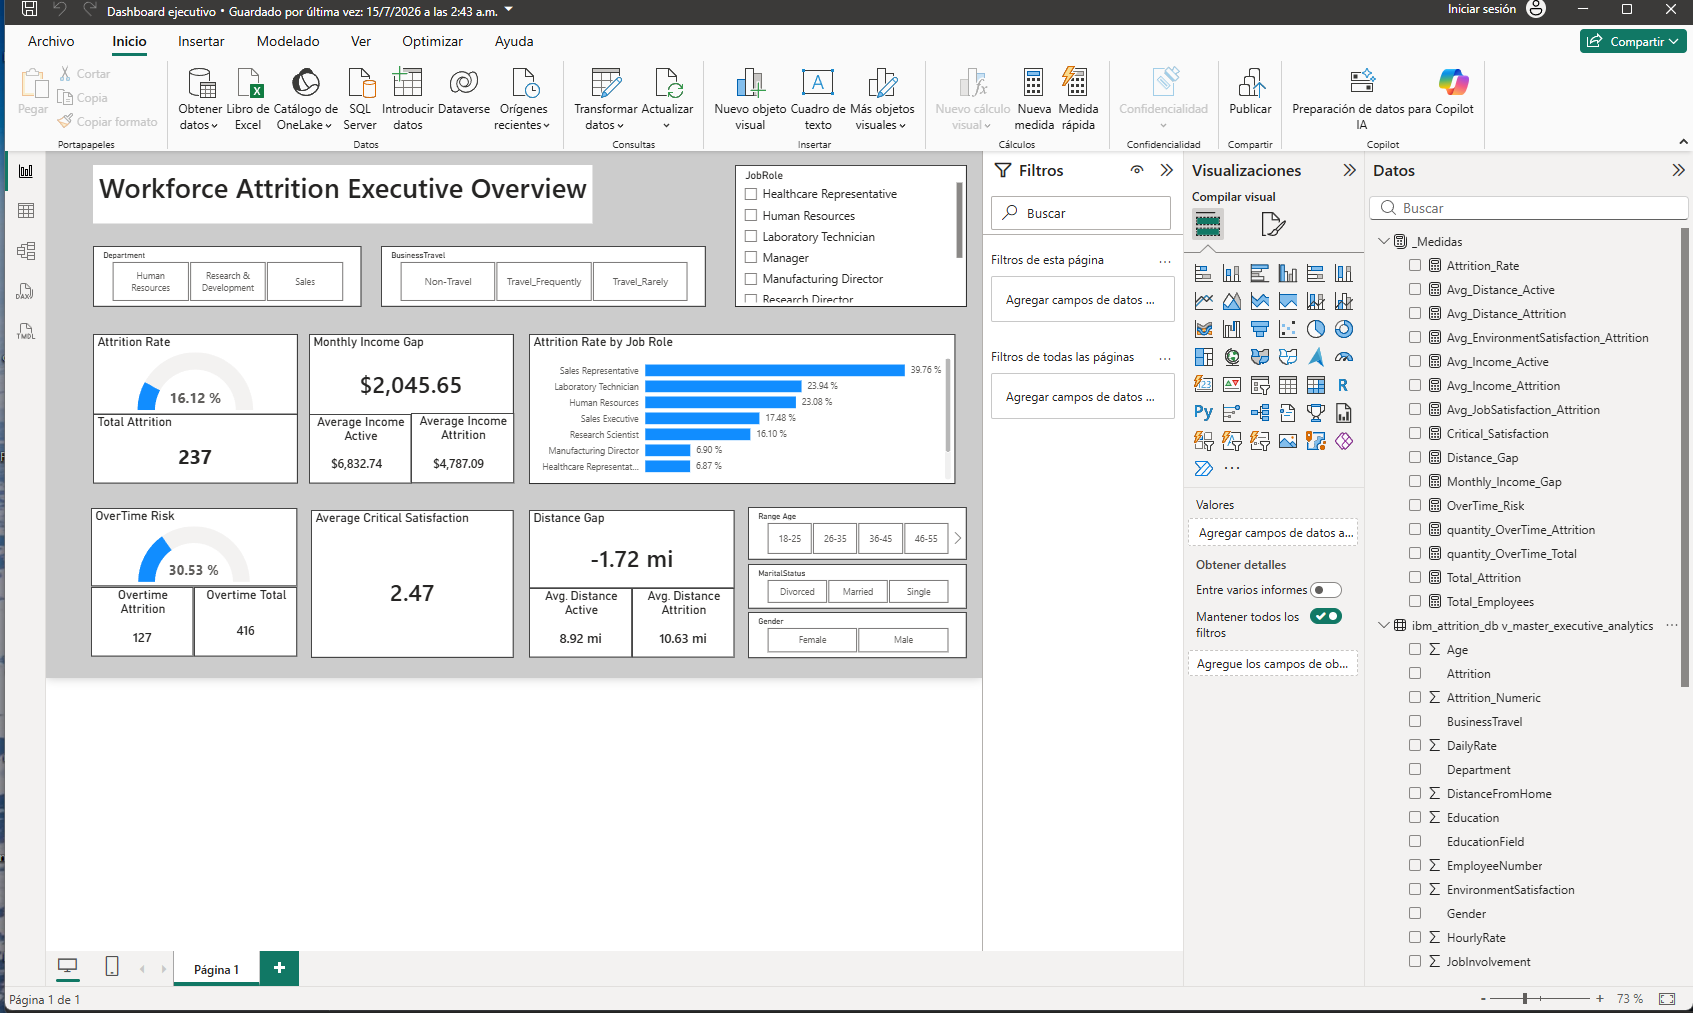

The dashboard page shown, as its layout file describes it:
{"tool":"powerbi","page":{"name":"Página 1","canvas":[1280,720],"ordinal":0},"visuals":[{"type":"gauge","title":"Attrition Rate","fields":{"Y":["_Medidas.Attrition_Rate"]},"box":[63.9,250,279.9,110.1],"z":0},{"type":"cardVisual","title":"Total Attrition","fields":{"Data":["_Medidas.Total_Attrition"]},"box":[63.9,360.1,279.9,95.1],"z":1000},{"type":"cardVisual","title":"Monthly Income Gap","fields":{"Data":["_Medidas.Monthly_Income_Gap"]},"box":[360.1,250,279.9,111.4],"z":2000},{"type":"cardVisual","title":"Average Income Active","fields":{"Data":["_Medidas.Avg_Income_Active"]},"box":[360.1,360.1,140,95.1],"z":3000},{"type":"cardVisual","title":"Average Income Attrition","fields":{"Data":["_Medidas.Avg_Income_Attrition"]},"box":[498.7,358.7,141.3,96.5],"z":4000},{"type":"gauge","title":"OverTime Risk","fields":{"Y":["_Medidas.OverTime_Risk"]},"box":[61,488.8,281.6,107.3],"z":5000},{"type":"cardVisual","title":"Overtime Attrition","fields":{"Data":["_Medidas.quantity_OverTime_Attrition"]},"box":[62.2,596.1,140.2,95.1],"z":6000},{"type":"cardVisual","title":"Overtime Total","fields":{"Data":["_Medidas.quantity_OverTime_Total"]},"box":[202.4,596.1,141.4,95.1],"z":7000},{"type":"cardVisual","title":"Average Critical Satisfaction","fields":{"Data":["_Medidas.Critical_Satisfaction"]},"box":[362.8,490.5,277.2,202.5],"z":8000},{"type":"clusteredBarChart","title":"Attrition Rate by Job Role","fields":{"Category":["ibm_attrition_db v_master_executive_analytics.JobRole"],"Y":["_Medidas.Attrition_Rate"]},"box":[660.4,250,582.9,205.2],"z":9000},{"type":"cardVisual","title":"Distance Gap","fields":{"Data":["_Medidas.Distance_Gap"]},"box":[660.4,490.5,281.3,107.3],"z":10000},{"type":"cardVisual","title":"Avg. Distance Attrition","fields":{"Data":["_Medidas.Avg_Distance_Attrition"]},"box":[801.7,597.9,140,95.1],"z":11000},{"type":"cardVisual","title":"Avg. Distance Active","fields":{"Data":["_Medidas.Avg_Distance_Active"]},"box":[660.4,597.9,141.3,95.1],"z":12000},{"type":"slicer","fields":{"Values":["ibm_attrition_db v_master_executive_analytics.Range Age"]},"box":[959.3,486.5,298.9,72],"z":13000},{"type":"slicer","fields":{"Values":["ibm_attrition_db v_master_executive_analytics.MaritalStatus"]},"box":[959.3,565.3,298.9,61.1],"z":14000},{"type":"slicer","fields":{"Values":["ibm_attrition_db v_master_executive_analytics.Gender"]},"box":[959.3,630.5,298.9,62.5],"z":15000},{"type":"slicer","fields":{"Values":["ibm_attrition_db v_master_executive_analytics.Department"]},"box":[63.9,130.4,366.9,82.9],"z":15001},{"type":"slicer","fields":{"Values":["ibm_attrition_db v_master_executive_analytics.BusinessTravel"]},"box":[457.9,130.4,444.3,82.9],"z":15002},{"type":"slicer","fields":{"Values":["ibm_attrition_db v_master_executive_analytics.JobRole"]},"box":[941.7,19,316.6,194.3],"z":15003},{"type":"textbox","box":[63.9,19,683.5,80.2],"z":15004}]}

Visuals, with their boxes on the page's 1280x720 design canvas (x1, y1, x2, y2). These are canvas units, not pixel positions in the 1693x1013 screenshot, which may show the page scaled, cropped or inside an application window:
"Attrition Rate" gauge: BBox(64, 250, 344, 360)
"Total Attrition" cardVisual: BBox(64, 360, 344, 455)
"Monthly Income Gap" cardVisual: BBox(360, 250, 640, 361)
"Average Income Active" cardVisual: BBox(360, 360, 500, 455)
"Average Income Attrition" cardVisual: BBox(499, 359, 640, 455)
"OverTime Risk" gauge: BBox(61, 489, 343, 596)
"Overtime Attrition" cardVisual: BBox(62, 596, 202, 691)
"Overtime Total" cardVisual: BBox(202, 596, 344, 691)
"Average Critical Satisfaction" cardVisual: BBox(363, 490, 640, 693)
"Attrition Rate by Job Role" clusteredBarChart: BBox(660, 250, 1243, 455)
"Distance Gap" cardVisual: BBox(660, 490, 942, 598)
"Avg. Distance Attrition" cardVisual: BBox(802, 598, 942, 693)
"Avg. Distance Active" cardVisual: BBox(660, 598, 802, 693)
slicer - ibm_attrition_db v_master_executive_analytics.Range Age: BBox(959, 486, 1258, 558)
slicer - ibm_attrition_db v_master_executive_analytics.MaritalStatus: BBox(959, 565, 1258, 626)
slicer - ibm_attrition_db v_master_executive_analytics.Gender: BBox(959, 630, 1258, 693)
slicer - ibm_attrition_db v_master_executive_analytics.Department: BBox(64, 130, 431, 213)
slicer - ibm_attrition_db v_master_executive_analytics.BusinessTravel: BBox(458, 130, 902, 213)
slicer - ibm_attrition_db v_master_executive_analytics.JobRole: BBox(942, 19, 1258, 213)
textbox: BBox(64, 19, 747, 99)
